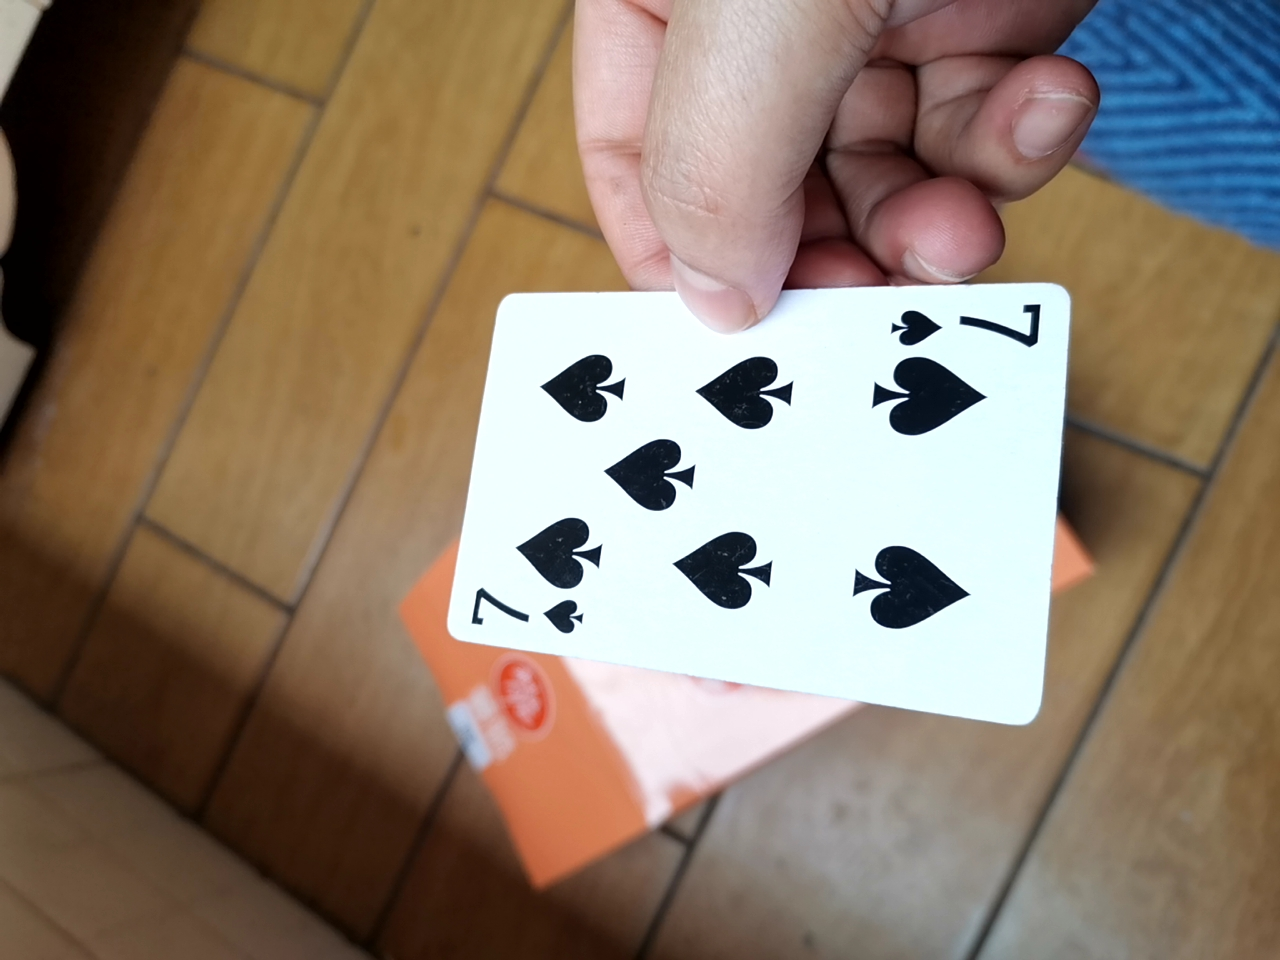ht 7: (452, 266, 1091, 741)
